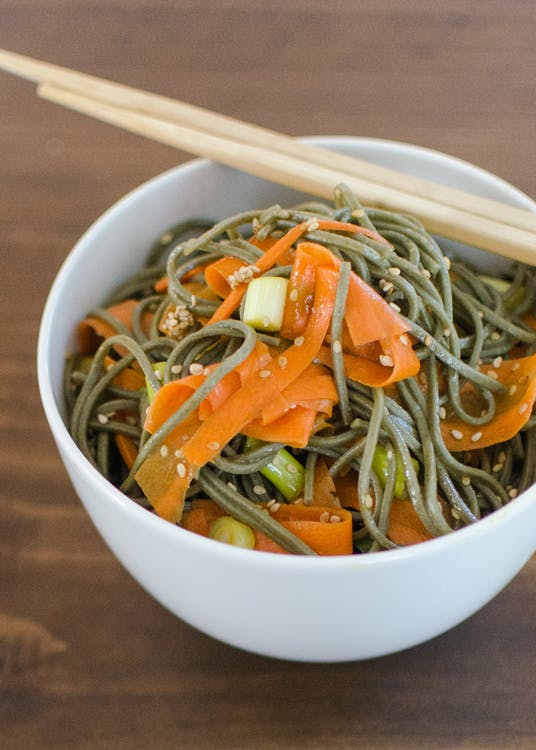Soba: (90, 183, 536, 546)
